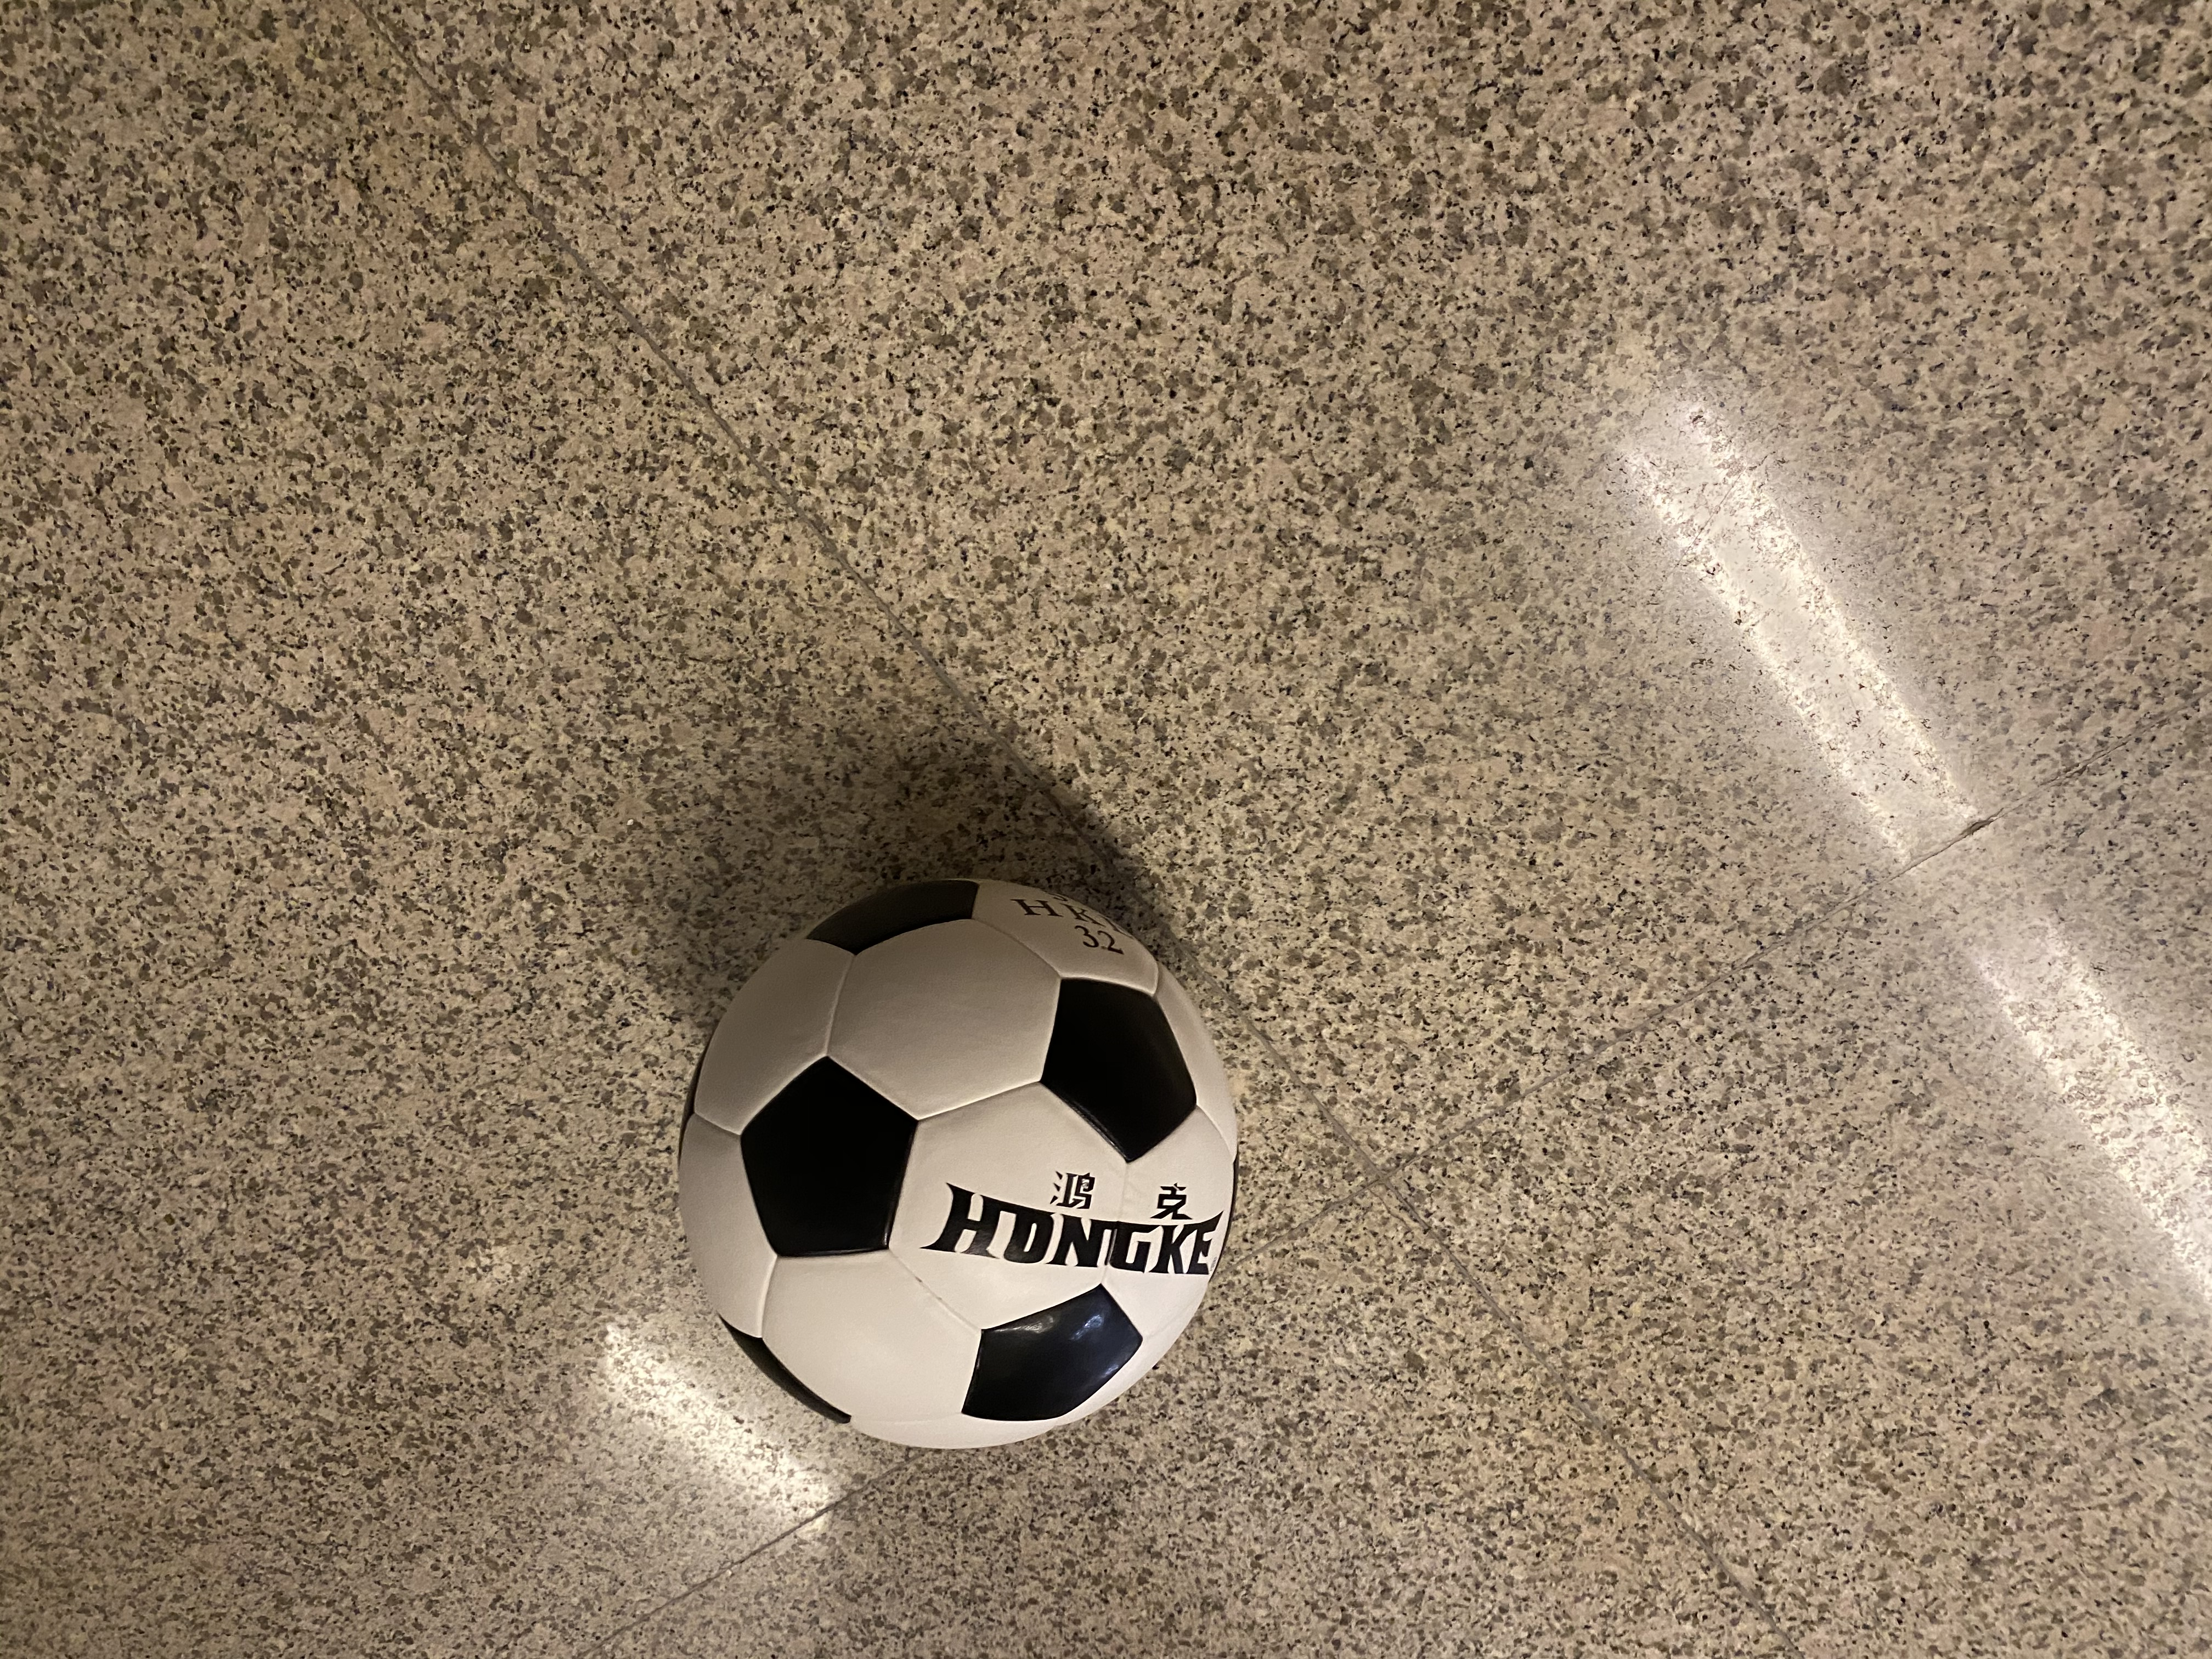football: (662, 864, 1240, 1446)
